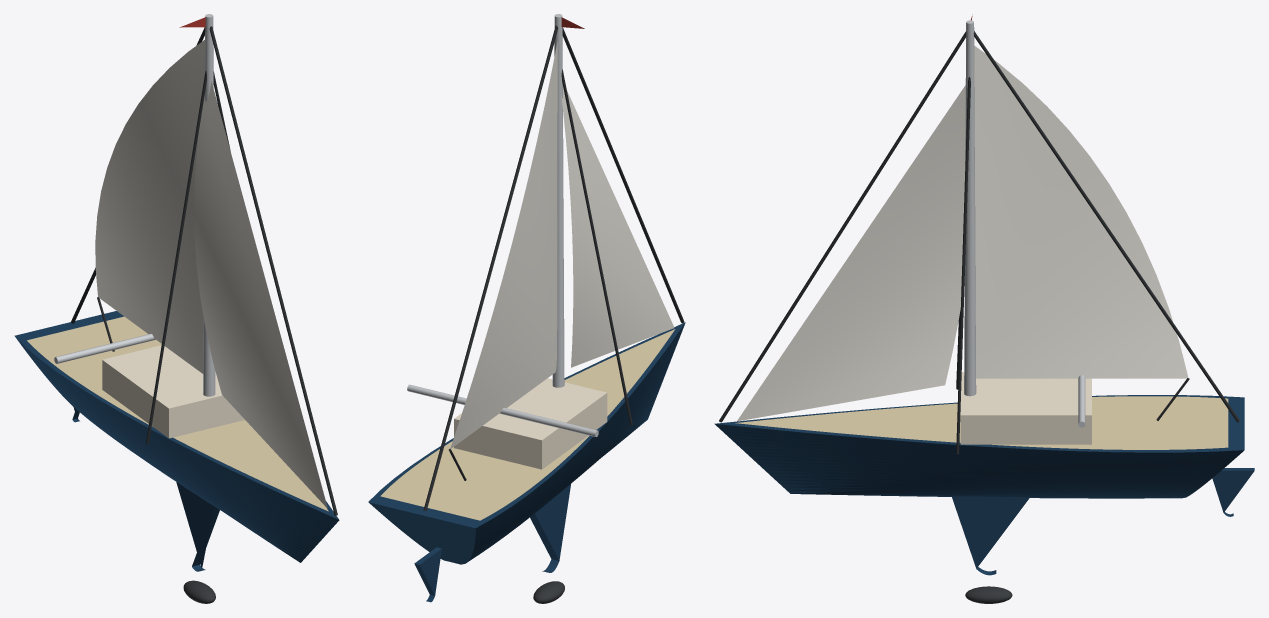
The model's file is sailboat.glb.
3 views of the same model, side by side, from view 1: azimuth 30°, elevation 25°; view 2: azimuth 150°, elevation 25°; view 3: azimuth 270°, elevation 25° (orthographic). The views are drawn at different scales.
Visible parts, largest first — view 1: mainsail, jib, hull, deck, cabin_trunk, forestay, keel_fin, shroud_starboard, mast, boom, ballast_bulb; view 2: mainsail, jib, hull, deck, cabin_trunk, mast, backstay, keel_fin, forestay, shroud_starboard, boom, rudder (+1 smaller); view 3: mainsail, jib, hull, deck, cabin_trunk, mast, keel_fin, backstay, forestay, shroud_port, rudder.
Part boxes in pixels (box(x1,y1,x2,y2)): mainsail: box(95, 40, 204, 373); jib: box(194, 81, 327, 508); hull: box(14, 311, 339, 562); deck: box(27, 316, 328, 511); cabin_trunk: box(102, 345, 244, 438); forestay: box(209, 26, 337, 515); keel_fin: box(176, 482, 219, 571); shroud_starboard: box(146, 70, 206, 444); mast: box(203, 14, 215, 396); boom: box(54, 333, 155, 363); ballast_bulb: box(183, 580, 215, 603); mainsail: box(450, 41, 557, 448); jib: box(561, 87, 674, 367); hull: box(368, 322, 685, 564); deck: box(380, 329, 675, 520); cabin_trunk: box(454, 378, 607, 469); mast: box(552, 14, 564, 387); backstay: box(423, 25, 558, 510); keel_fin: box(530, 484, 570, 572); forestay: box(562, 27, 684, 323); shroud_starboard: box(561, 69, 632, 425); boom: box(407, 384, 598, 436); rudder: box(414, 547, 441, 602); mainsail: box(974, 46, 1188, 378); jib: box(737, 85, 965, 421); hull: box(714, 395, 1244, 498); deck: box(735, 396, 1228, 449); cabin_trunk: box(960, 372, 1091, 444); mast: box(964, 20, 976, 396); keel_fin: box(952, 497, 1029, 575); backstay: box(973, 31, 1239, 422); forestay: box(719, 31, 966, 422); shroud_port: box(956, 77, 970, 454); rudder: box(1212, 468, 1254, 516).
Bounding box in the file's own units: 1.75 × 5.13 × 4.33.
